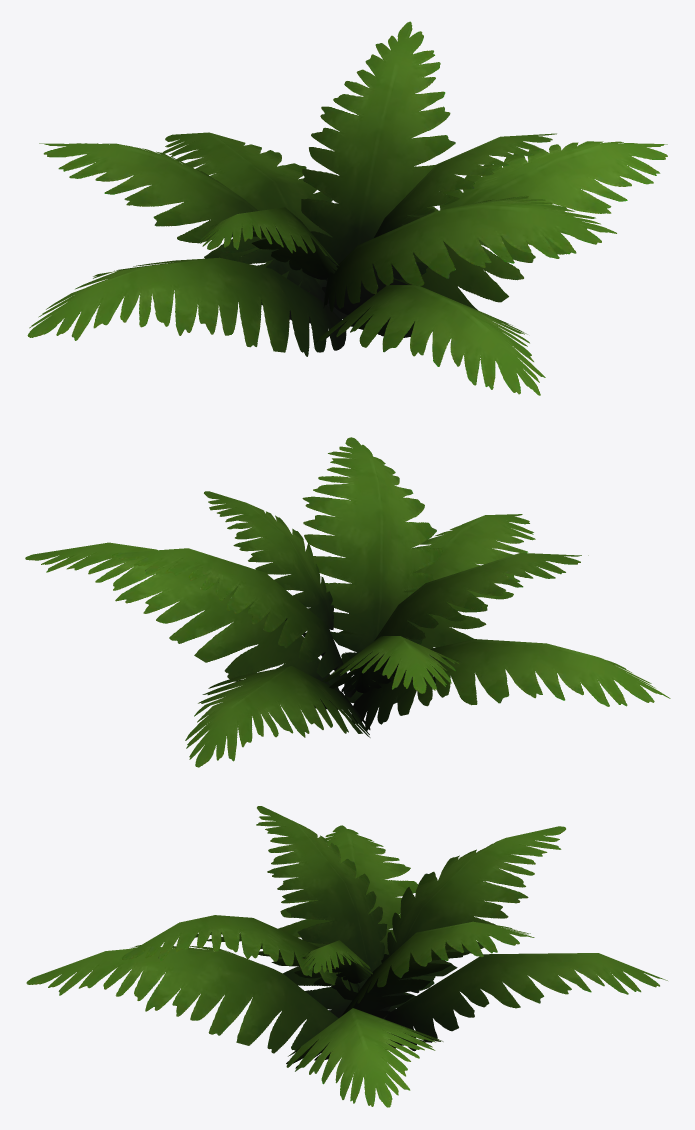
The model's file is fern_1.glb.
The picture shows the model from 3 angles, top to bottom: view 1: azimuth 30°, elevation 25°; view 2: azimuth 150°, elevation 25°; view 3: azimuth 270°, elevation 25°; orthographic projection. The views are drawn at different scales.
Parts seen in each view (by area): view 1: Fern_1; view 2: Fern_1; view 3: Fern_1.
Boxes of the visible parts, x1,y1,x2,y2 form: Fern_1: (27, 21, 667, 395); Fern_1: (25, 437, 670, 767); Fern_1: (26, 806, 667, 1107).
Bounding box in the file's own units: 2.83 × 0.8404 × 2.65.
1 material, 1 textured.
